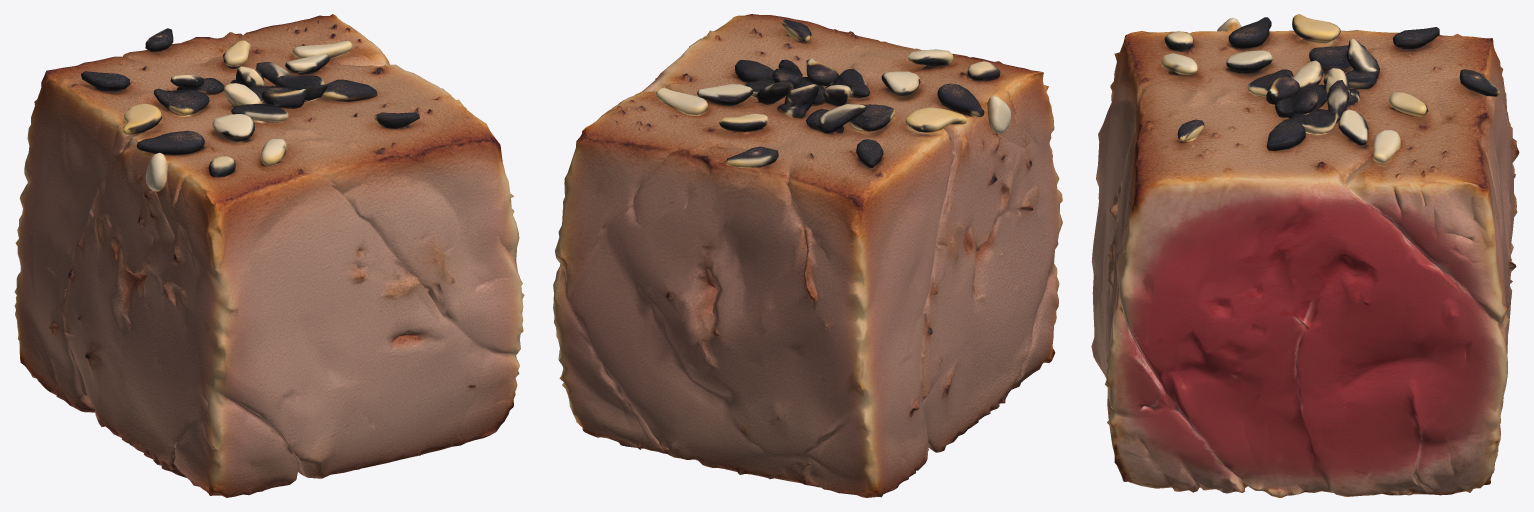
Rendered from hf_20261023_143737_4013ec0e-d974-4fd5-8740-1ba5fbe65859_tripo_h3_1_multiview_to_3d.glb.
3 renders of one model, left to right at view 1: azimuth 30°, elevation 25°; view 2: azimuth 150°, elevation 25°; view 3: azimuth 270°, elevation 25°, orthographic. The views are drawn at different scales.
Parts seen in each view (by area): view 1: tripo_node_349bd217-9798-47b4-982d-7c3ee5f66c6c; view 2: tripo_node_349bd217-9798-47b4-982d-7c3ee5f66c6c; view 3: tripo_node_349bd217-9798-47b4-982d-7c3ee5f66c6c.
Part boxes in pixels (x1,y1,x2,y2): tripo_node_349bd217-9798-47b4-982d-7c3ee5f66c6c: [14, 14, 524, 497]; tripo_node_349bd217-9798-47b4-982d-7c3ee5f66c6c: [553, 14, 1062, 497]; tripo_node_349bd217-9798-47b4-982d-7c3ee5f66c6c: [1091, 14, 1519, 497].
Bounding box in the file's own units: 0.907 × 0.8834 × 0.9817.
Materials: 1 (1 with a texture image).
